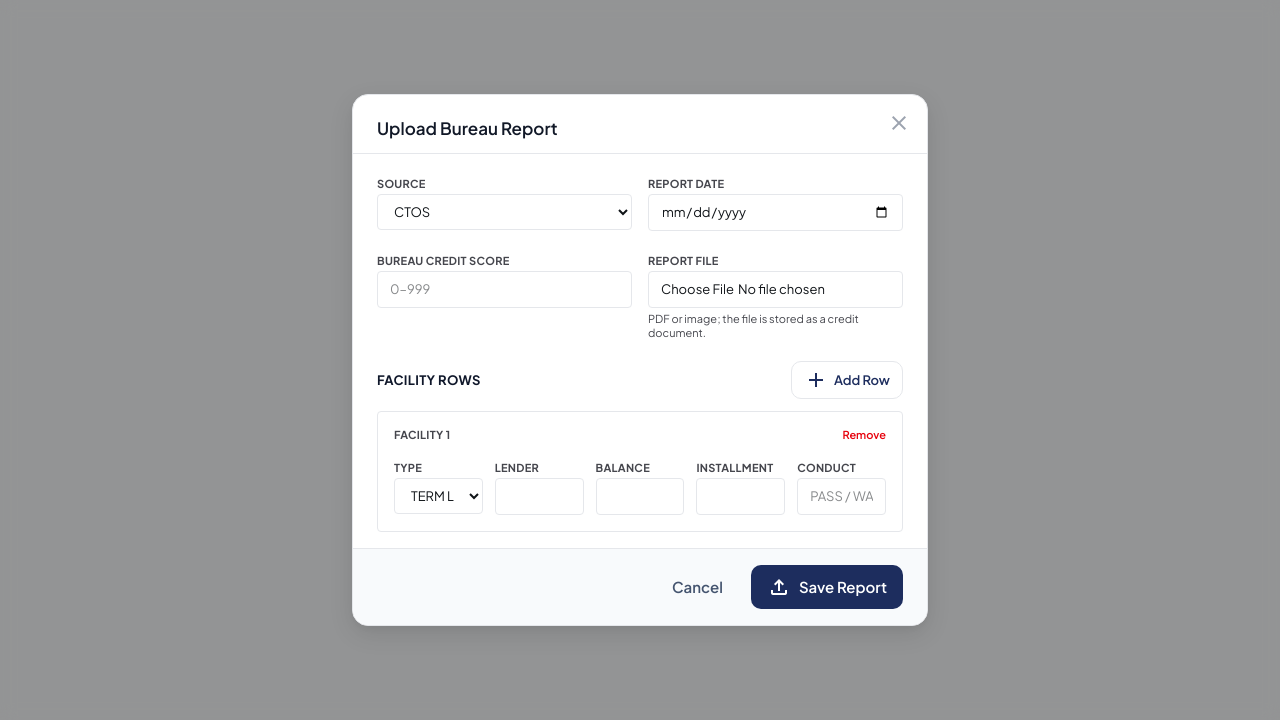
Scenario: BureauUploadModal › requires a real file and bureau score before saving
Click the button "Save Report": [827, 587] box [751,565,903,609]
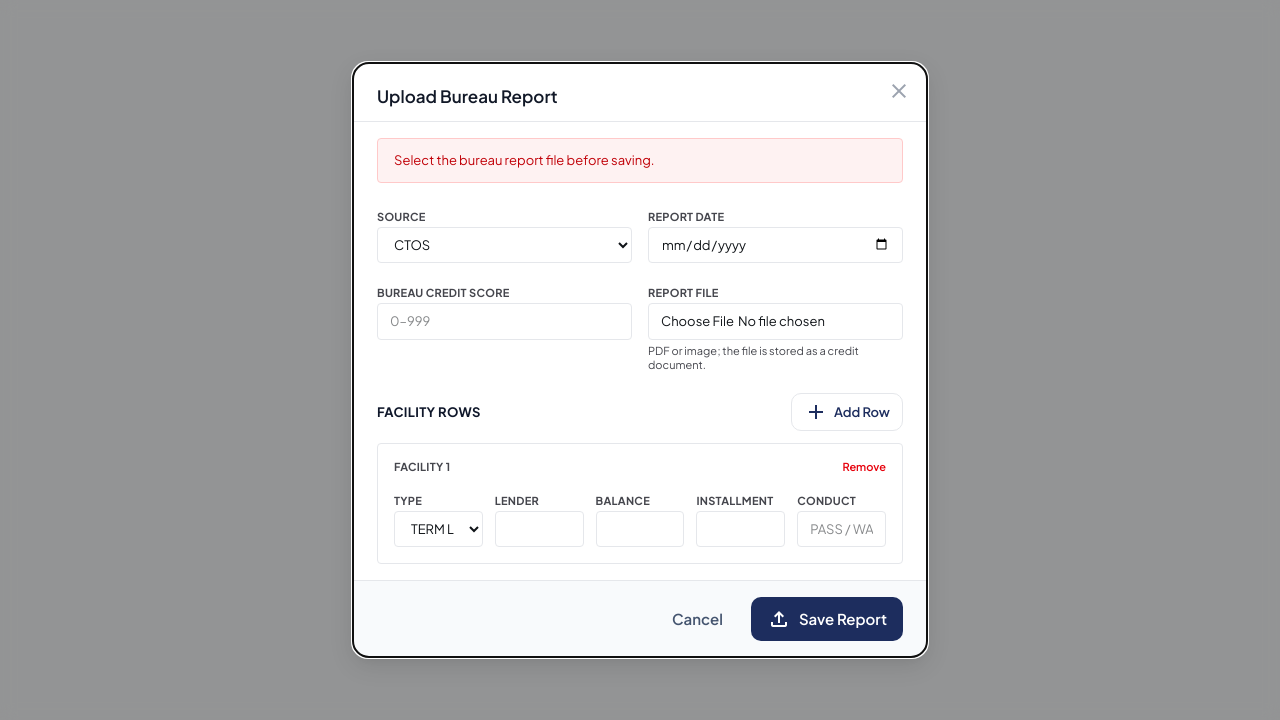
Now the text "Select the bureau report file before saving." is shown, box [377,138,903,183]
